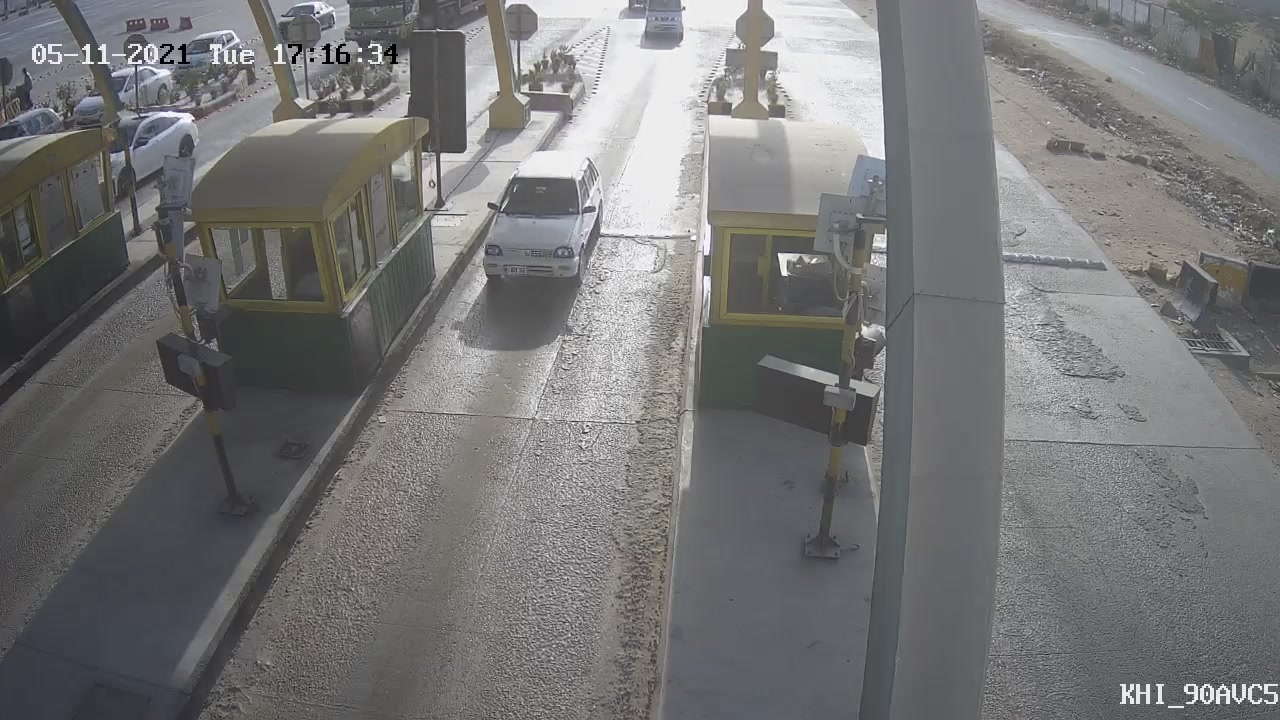F1: (453, 139, 630, 300)
